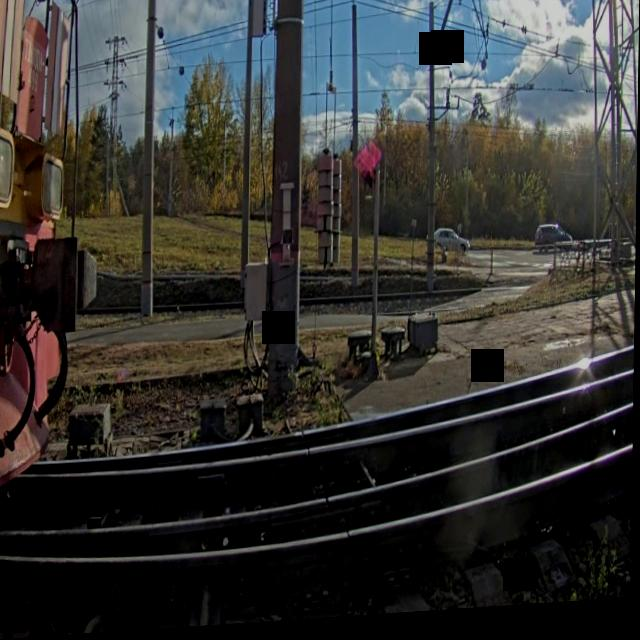locomotive: (0, 0, 106, 564)
